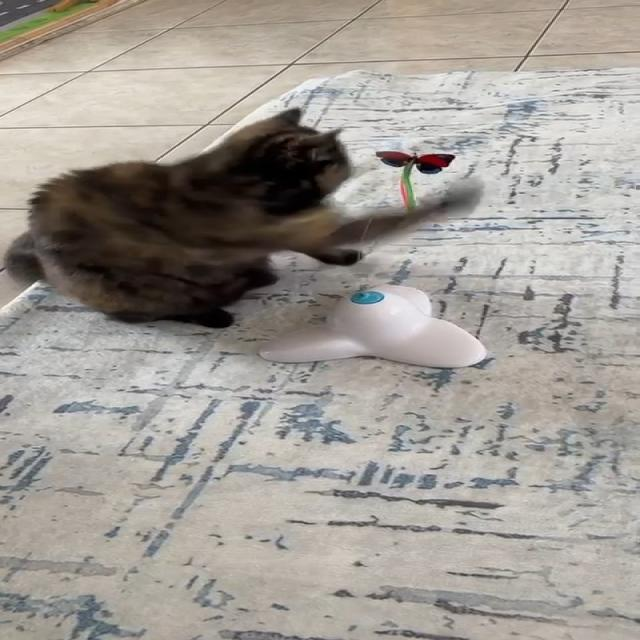authorized: (3, 106, 449, 329)
